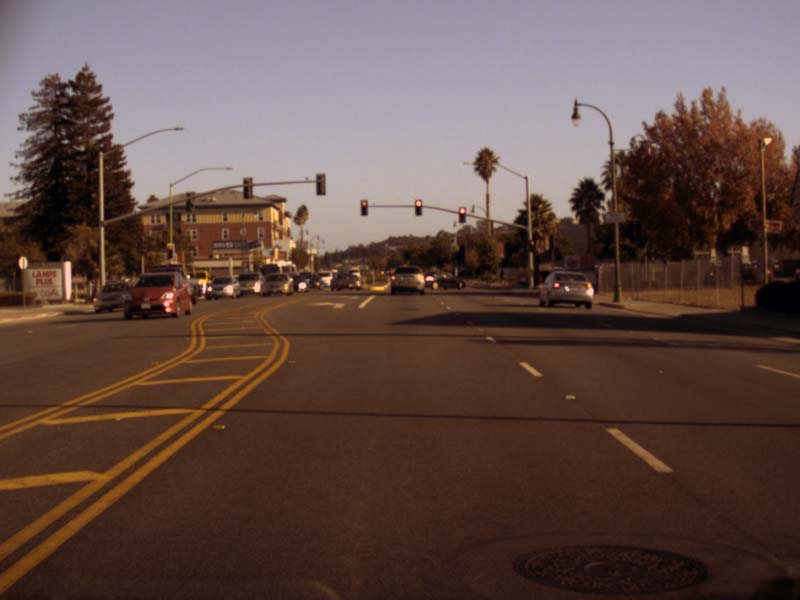Red: (360, 199, 368, 216), (414, 199, 422, 215), (458, 207, 465, 221), (167, 245, 172, 258), (529, 240, 534, 250)
